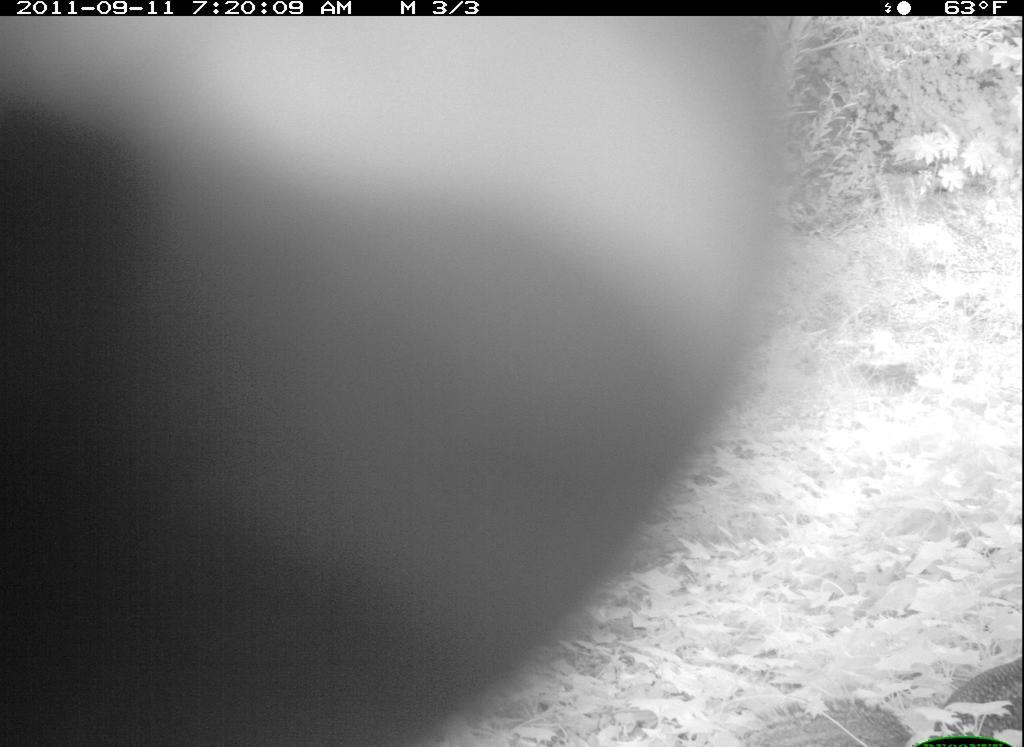squirrel: (2, 17, 797, 747)
